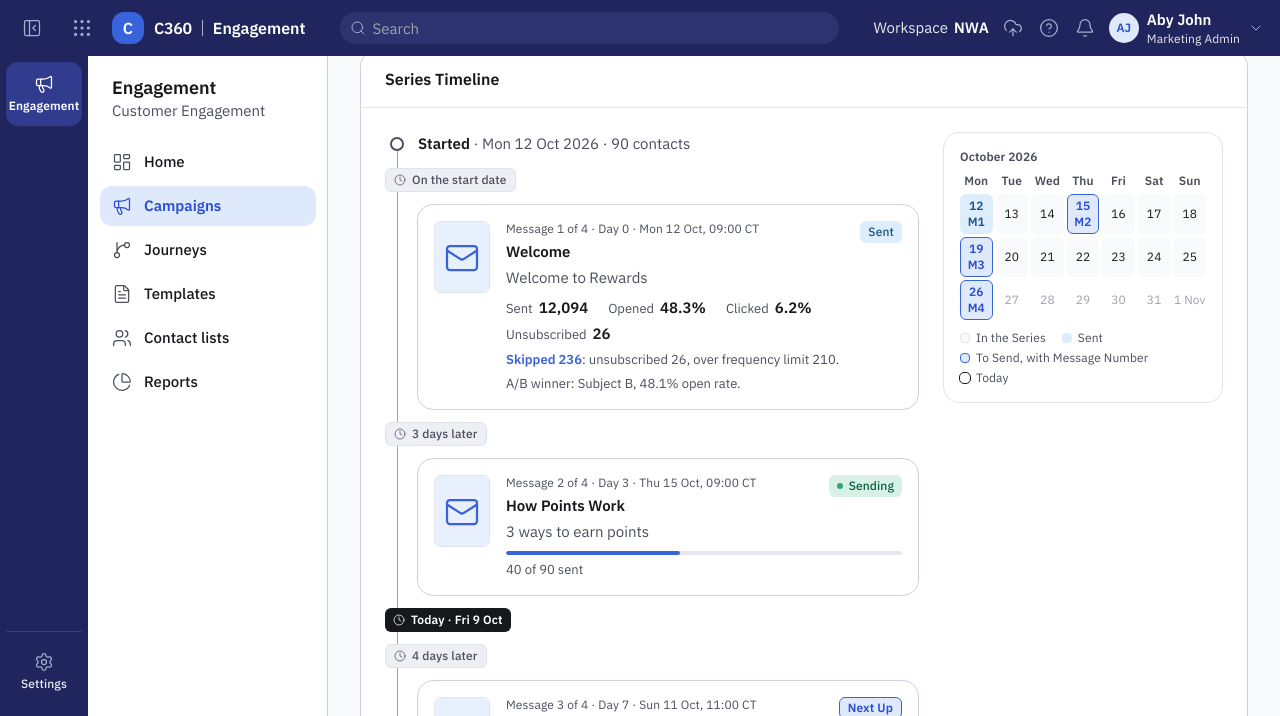
Test: the Series Timeline: sent with its figures, skips and A/B winner; sending with progress; next up; scheduled; the calendar; and the Skipped drawer
The width and height of the screenshot is (1280, 716).
(page scrolled)
Check: the element showing "Started · Mon 12 Oct 2026 · 90 contacts" is shown, box [418,133,690,155]
Check: the element showing "Sent 12,094 Opened 48.3% Clicked 6.2% Unsubscribed 26" is shown, box [506,298,812,343]
Click the button "Skipped 236" at (544,360), box [506,351,582,369]
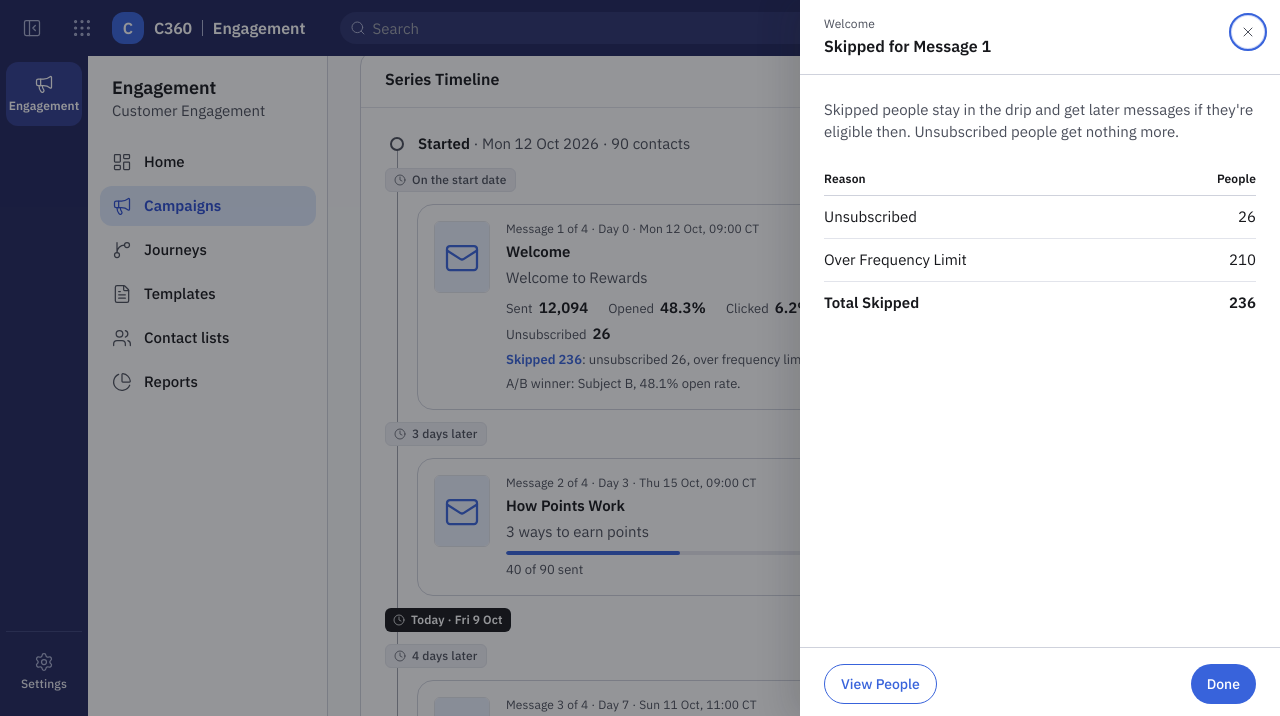
Check: the rows read "ReasonPeople", "Unsubscribed26", "Over Frequency Limit210", "Total Skipped236", in this order, box [824,163,1256,196]; [824,196,1256,238]; [824,238,1256,282]; [824,282,1256,324]
Check: the text "Skipped people stay in the drip and get later messages if they're eligible then. Unsubscribed people get nothing more." is shown, box [824,100,1253,141]
